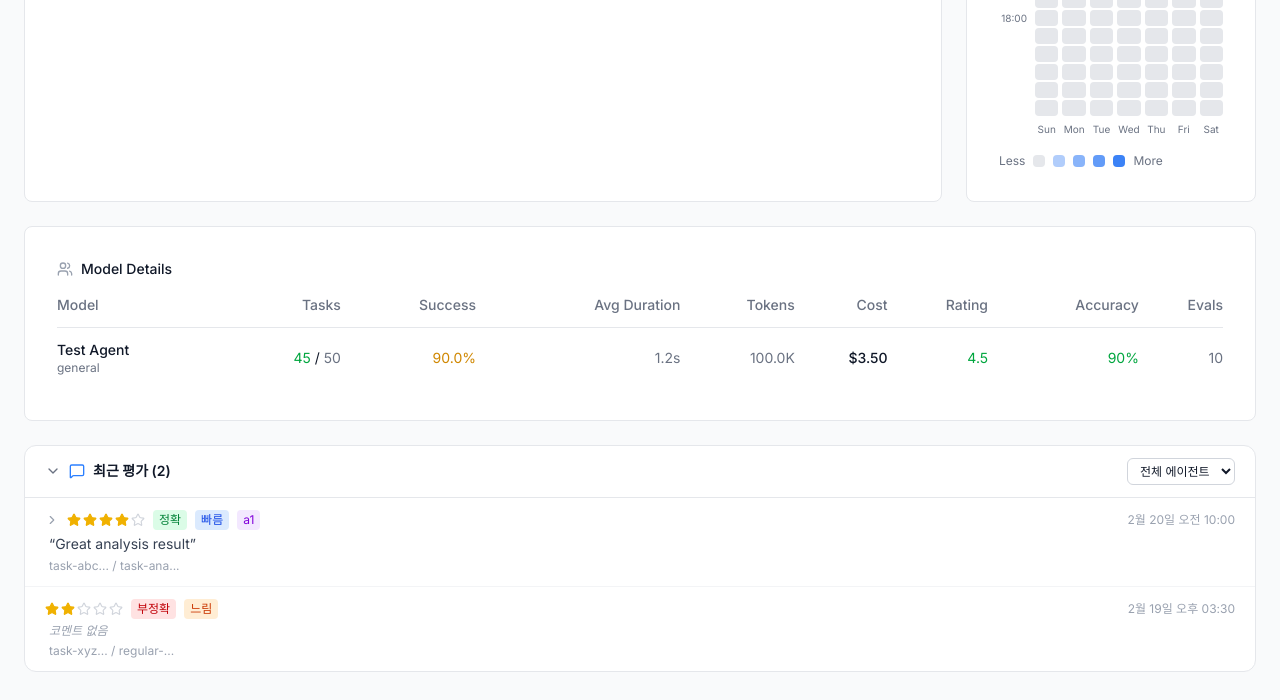
Test: AnalyticsPage › collapses expanded eval detail when clicked again
(page scrolled)
Check: the text "“Great analysis result”" is shown, box [49,534,196,552]
Click the text "Great analysis result" at [170, 520], box [25,498,1255,586]
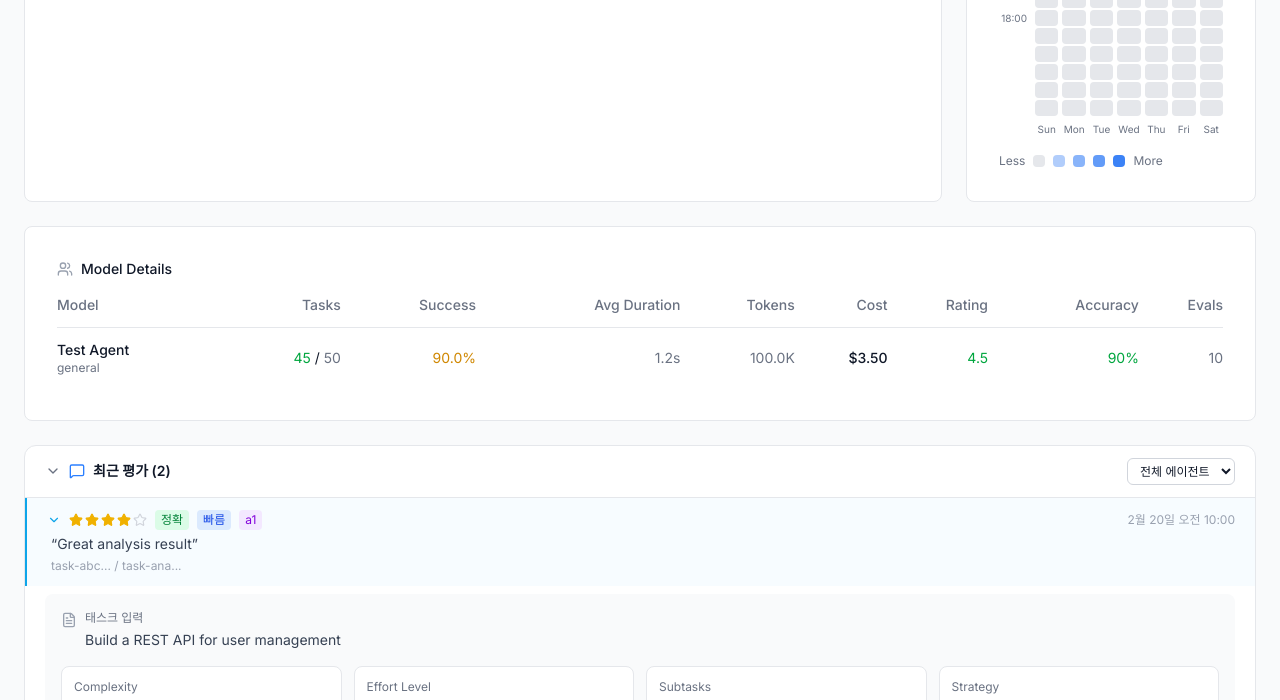
Check: the text "Build a REST API for user management" is shown, box [85,630,341,650]
Click the text "Great analysis result" at [640, 542], box [25,498,1255,586]
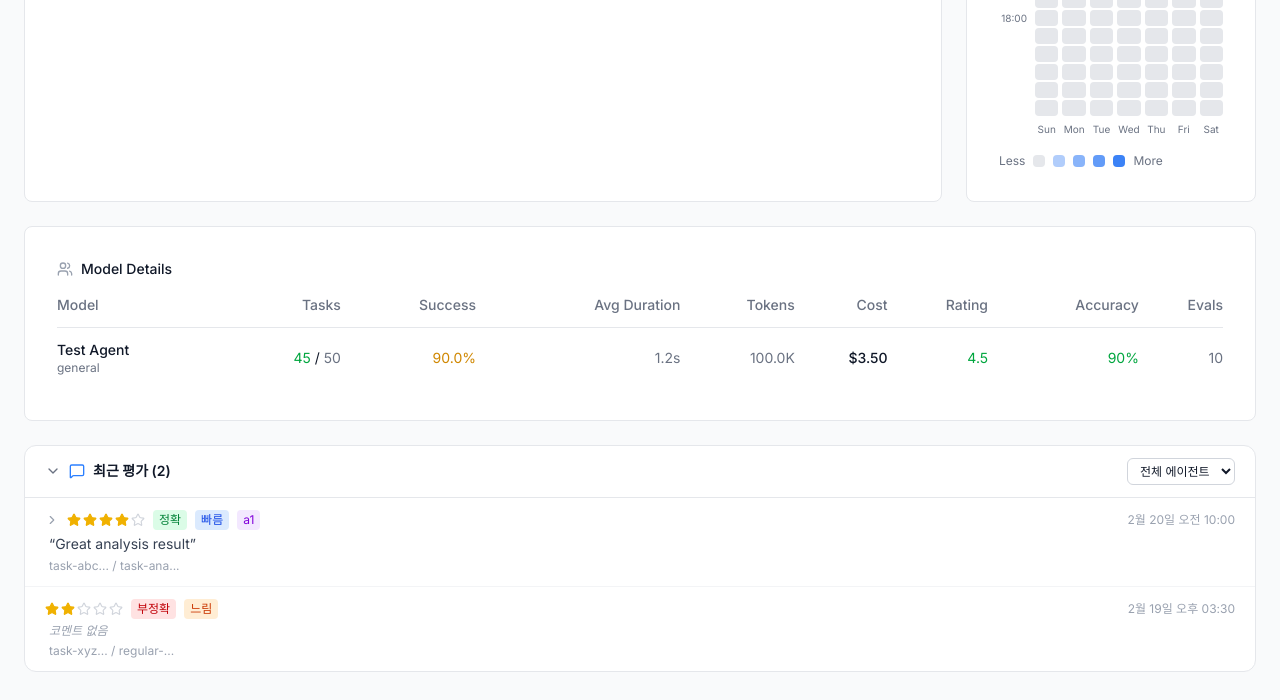
Check: the text "Build a REST API for user management" is gone
